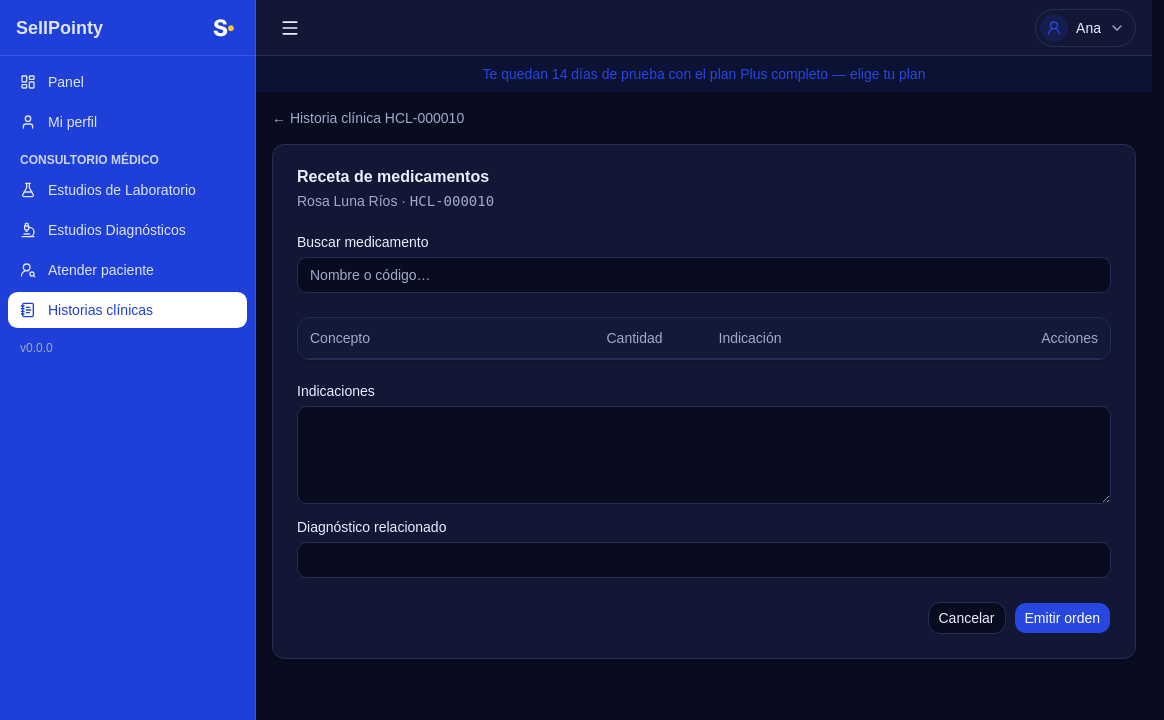
receta de medicamentos (F9-CLINIC-WEB-18) › si el stock no responde, lo dice en vez de fingir que no hay resultados
This screenshot has width=1164, height=720.
Type "parac" into the search field labelled "Buscar medicamento". click: [704, 275]
box: [297,257,1111,293]
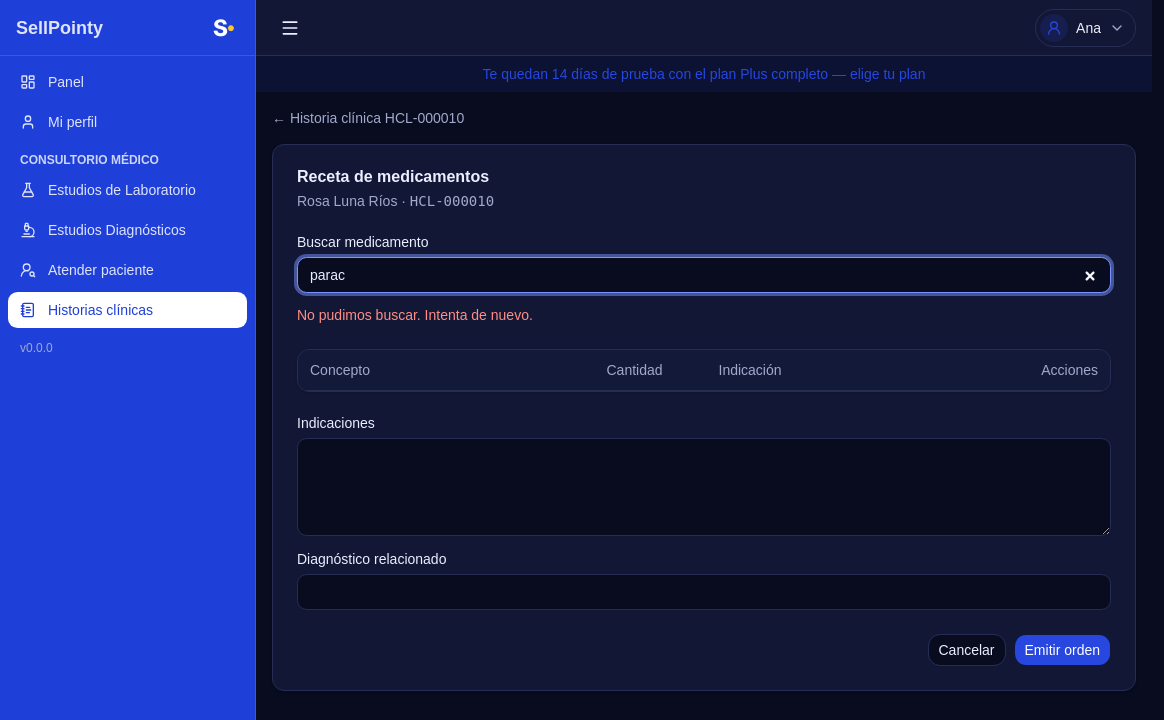
expect the message reads "No pudimos buscar. Intenta de nuevo.": met, box [297,307,533,323]
